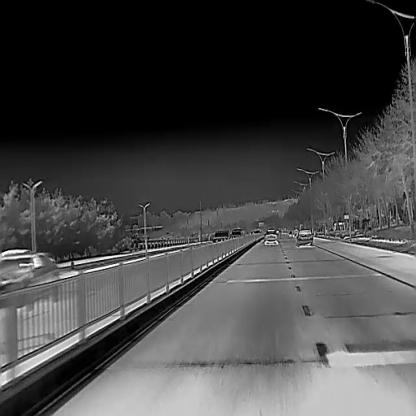car: (0, 246, 84, 306), (294, 226, 314, 246), (262, 228, 278, 245), (212, 229, 231, 243), (230, 226, 245, 240)
